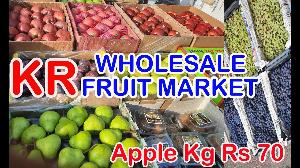apple: (0, 105, 135, 168), (5, 3, 67, 48), (68, 3, 130, 48), (170, 1, 226, 38), (124, 3, 176, 41)
grape: (225, 65, 293, 155), (248, 2, 300, 56)
